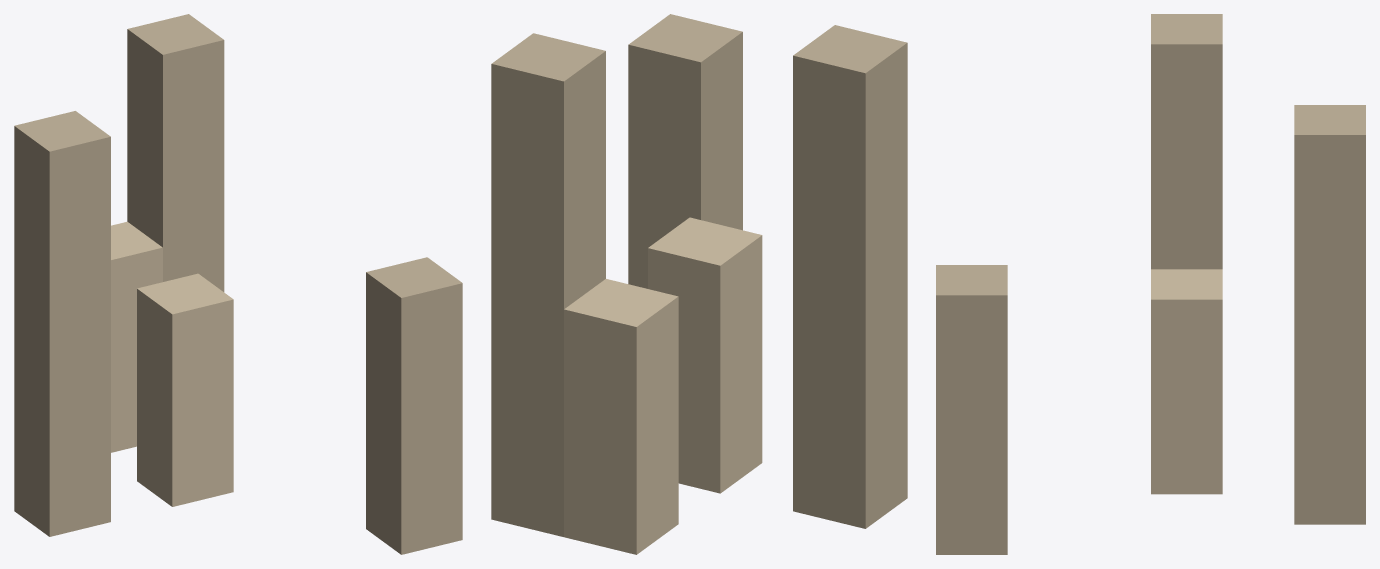
The model's file is cebolla_de_montana_02.glb.
3 views of the same model, side by side, from view 1: azimuth 30°, elevation 25°; view 2: azimuth 150°, elevation 25°; view 3: azimuth 270°, elevation 25° (orthographic). The views are drawn at different scales.
Parts seen in each view (by area): view 1: cebolla_de_montana_02; view 2: cebolla_de_montana_02; view 3: cebolla_de_montana_02.
Part boxes in pixels (bbox=[...]): cebolla_de_montana_02: bbox=[14, 14, 462, 554]; cebolla_de_montana_02: bbox=[491, 14, 907, 554]; cebolla_de_montana_02: bbox=[936, 14, 1365, 554].
Size of the model in its own units: 0.5 by 0.6 by 0.6.
